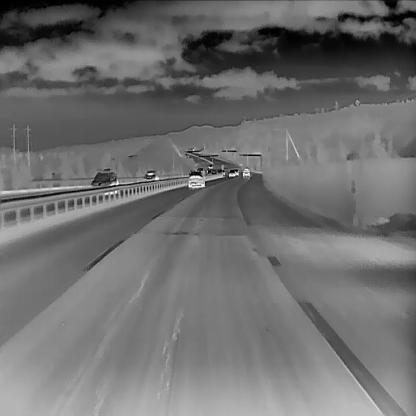car: (91, 168, 119, 194), (186, 170, 205, 188), (143, 168, 160, 184), (242, 168, 250, 177), (228, 168, 236, 177)
